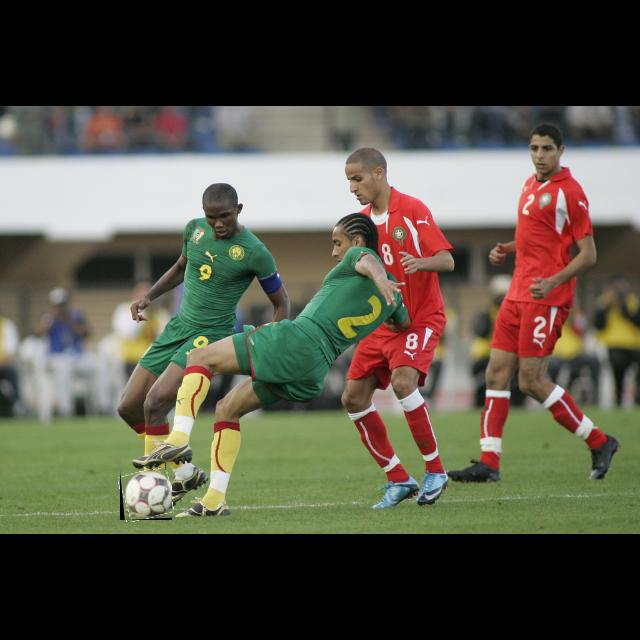Football: (120, 470, 172, 520)
